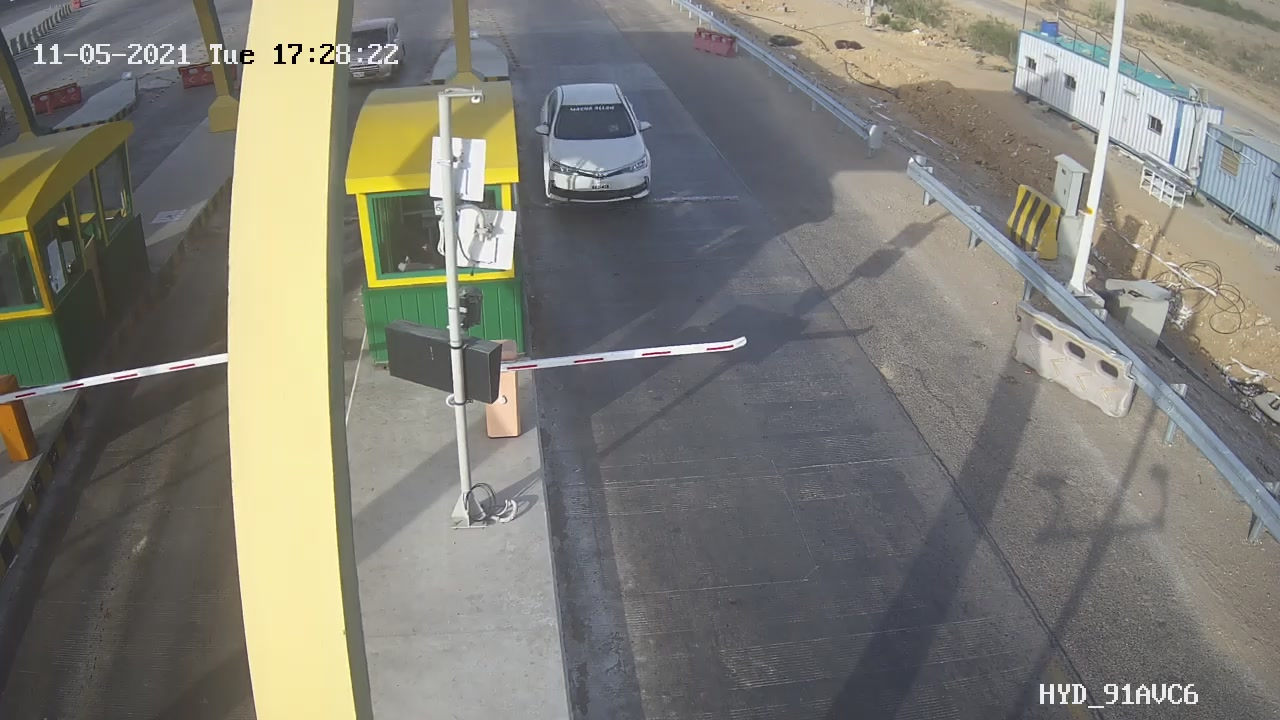F1: (521, 68, 673, 224)
